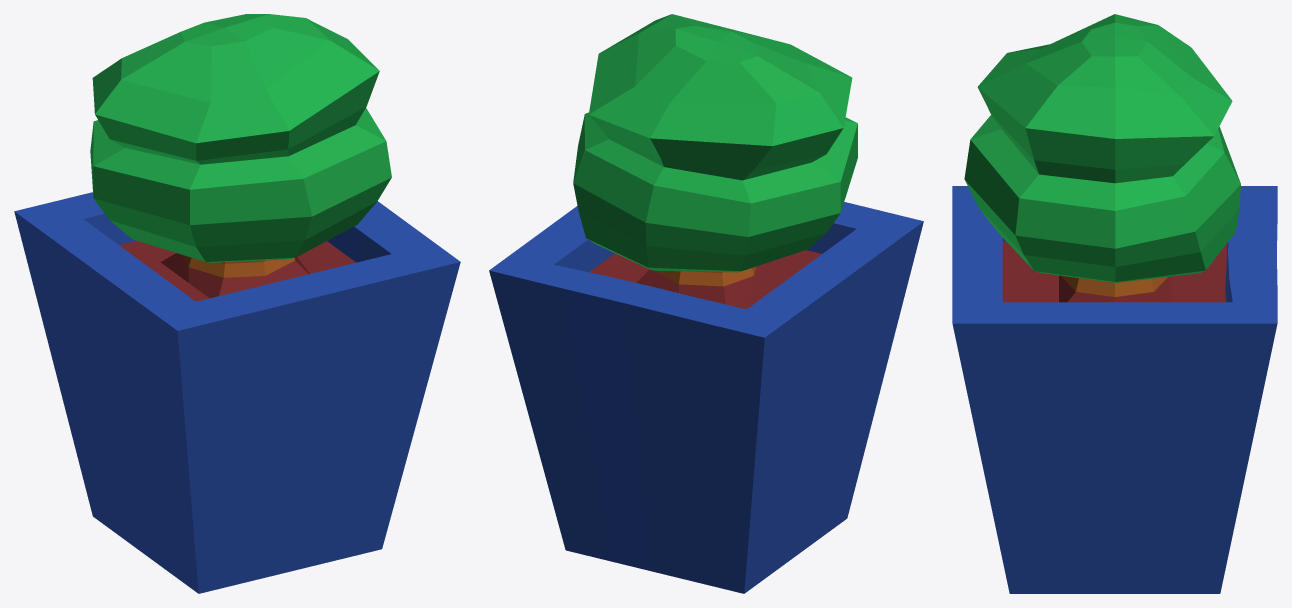
Rendered from FlowerPlanter.fbx.
The picture shows the model from 3 angles, left to right: view 1: azimuth 30°, elevation 25°; view 2: azimuth 150°, elevation 25°; view 3: azimuth 270°, elevation 25°; orthographic projection. The views are drawn at different scales.
Visible parts, largest first — view 1: FlowerPlanter; view 2: FlowerPlanter; view 3: FlowerPlanter.
Part boxes in pixels (<box>): FlowerPlanter: <box>14,14,460,593</box>; FlowerPlanter: <box>489,14,923,593</box>; FlowerPlanter: <box>952,14,1277,593</box>.
Bounding box in the file's own units: 0.4003 × 0.4 × 0.6901.
1 material, 1 textured.
